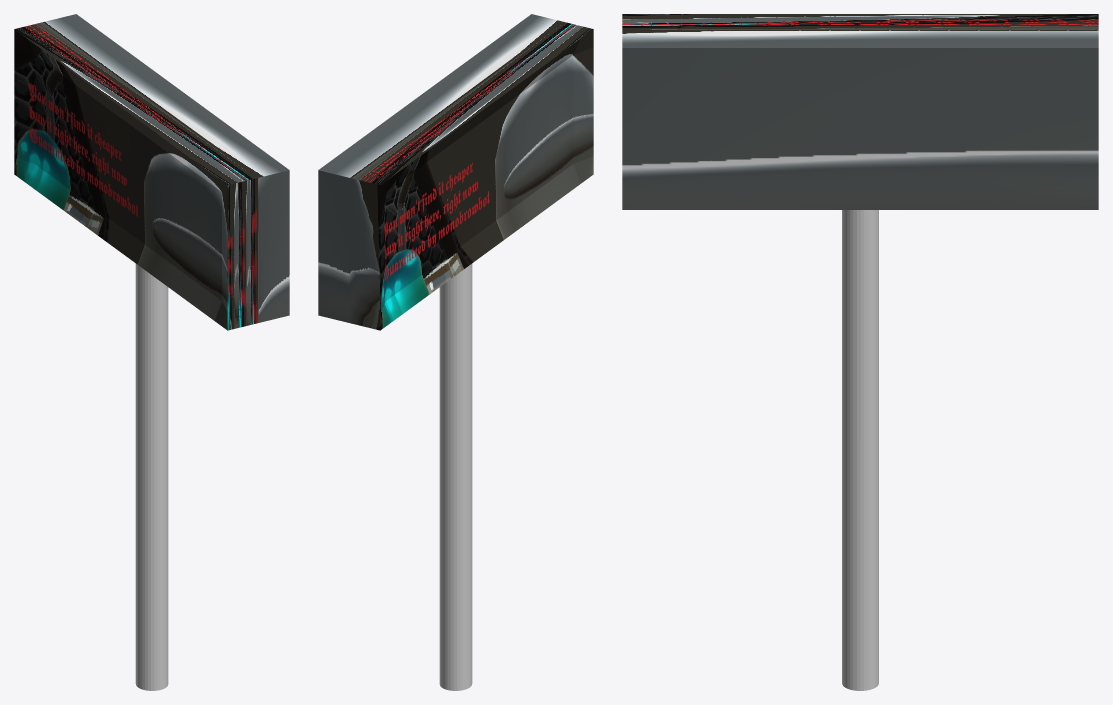
The model's file is billboard.fbx.
3 views of the same model, side by side, from view 1: azimuth 30°, elevation 25°; view 2: azimuth 150°, elevation 25°; view 3: azimuth 270°, elevation 25° (orthographic). The views are drawn at different scales.
Parts seen in each view (by area): view 1: Cube, Billboardholder; view 2: Cube, Billboardholder; view 3: Cube, Billboardholder.
Part boxes in pixels (bbox=[...]): Cube: bbox=[14, 14, 289, 330]; Billboardholder: bbox=[135, 263, 168, 690]; Cube: bbox=[318, 14, 593, 330]; Billboardholder: bbox=[439, 263, 472, 690]; Cube: bbox=[622, 14, 1098, 209]; Billboardholder: bbox=[842, 210, 878, 690].
Size of the model in its own units: 313 by 2812 by 1861.
